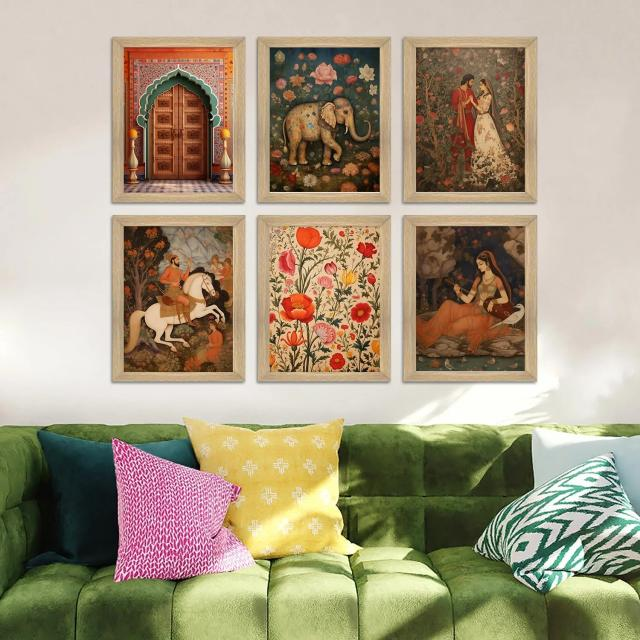painting: (112, 35, 247, 203), (113, 215, 248, 383), (259, 38, 394, 206), (403, 36, 538, 204), (259, 214, 394, 382), (404, 215, 539, 383)
